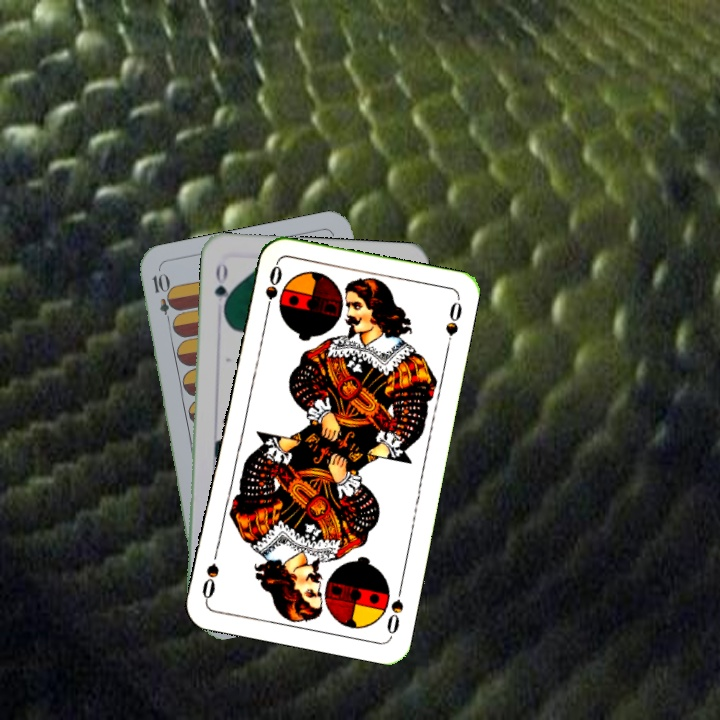E10: (148, 269, 176, 328)
GO: (211, 257, 233, 317)
SO: (261, 260, 285, 319), (382, 580, 406, 639)
